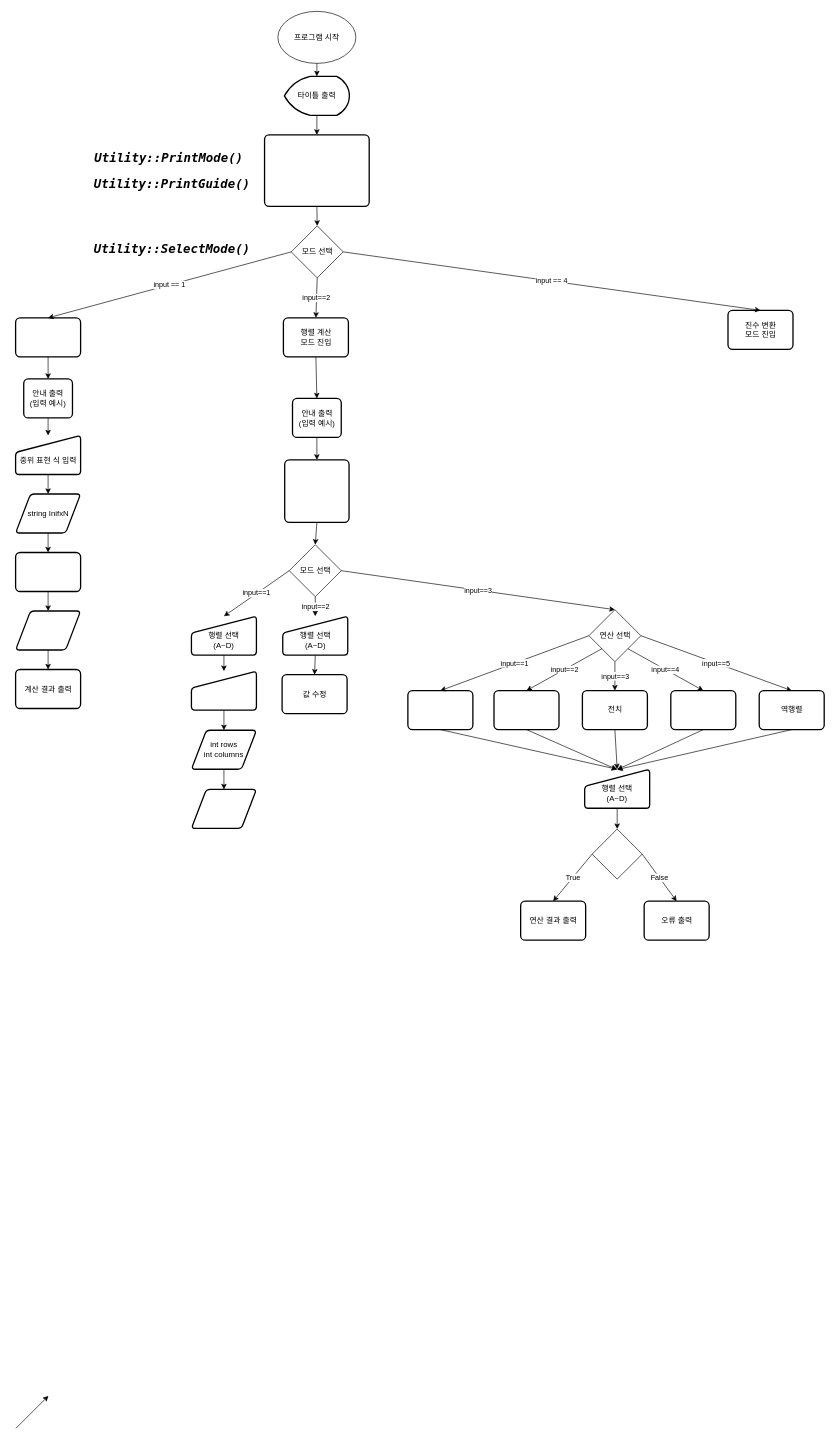
Image size: 836x1445. Some labels were removed from this diagram. Here are the shapes that lost their labels. From the top down, the box of each, then its label:
(264, 134, 370, 207): 계산 모드 출력 1 : 기본 연산(사칙연산) 2 : 고급 연산(삼각,지수,로그) 3 : 행렬 연산 4 : 진수 변환 5 : 종료
(15, 317, 81, 357): 기본 계산 모드 진입
(284, 459, 349, 523): 행렬 계산 모드 출력 1번 : 행렬 정의 2번 : 행렬 수정 3번 : 행렬 연산
(15, 552, 81, 592): 중위 표현 식을 후위 표현 식으로 변환
(15, 610, 81, 650): string PostfixN
(190, 670, 257, 710): 행,열 수 입력
(407, 690, 473, 730): 행렬 덧셈
(493, 690, 559, 730): 스칼라 곱
(670, 690, 736, 730): 행렬 곱셈
(190, 788, 257, 829): Matrix A (or B,C,D)
(592, 828, 642, 879): 연산 가능?
